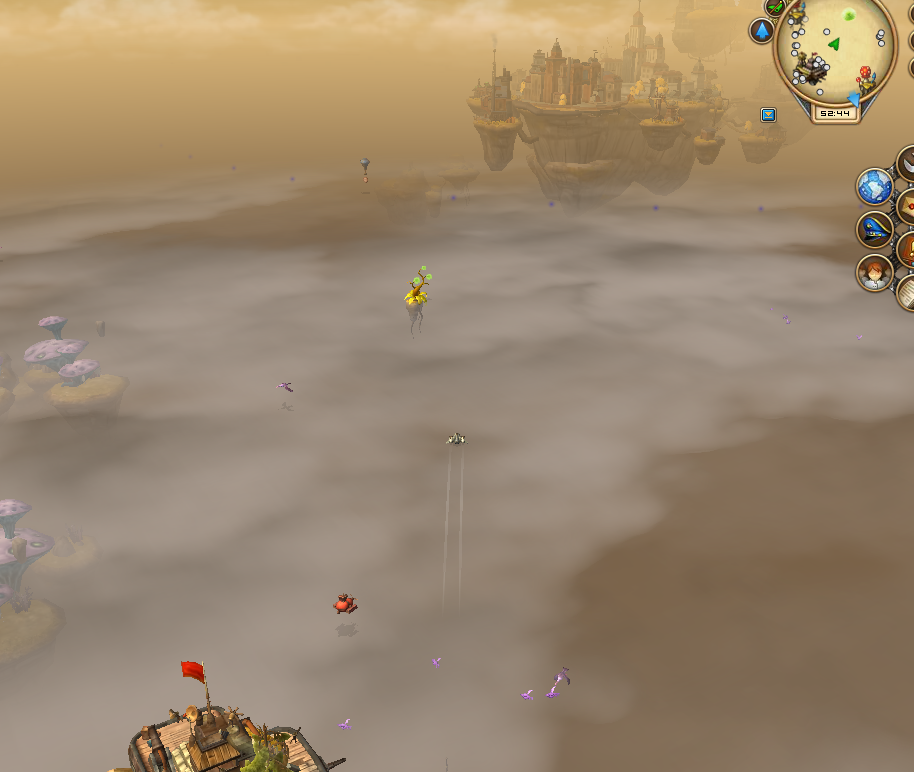dandelion-full: (399, 259, 435, 326)
